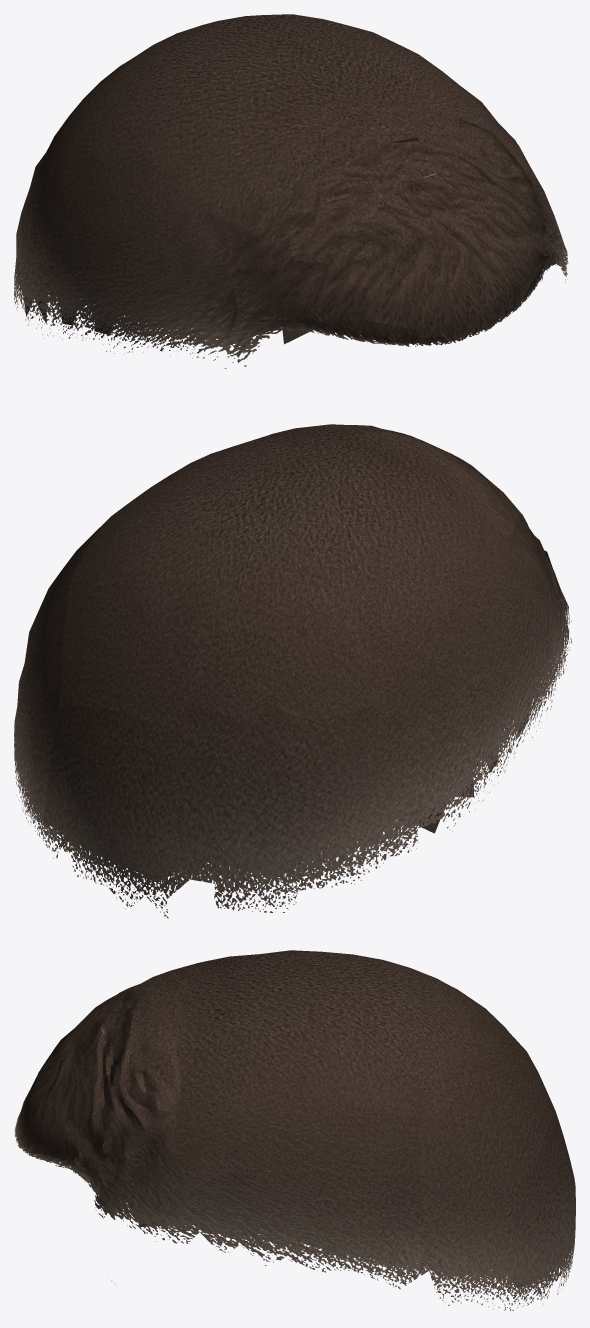
File: Hair_CrewCut.glb
The picture shows the model from 3 angles, top to bottom: view 1: azimuth 30°, elevation 25°; view 2: azimuth 150°, elevation 25°; view 3: azimuth 270°, elevation 25°; orthographic projection. The views are drawn at different scales.
Parts seen in each view (by area): view 1: HairMesh; view 2: HairMesh; view 3: HairMesh.
Boxes of the visible parts, x1,y1,x2,y2 form: HairMesh: [14, 14, 568, 368]; HairMesh: [14, 424, 571, 918]; HairMesh: [14, 950, 575, 1310].
Bounding box in the file's own units: 0.1552 × 0.1171 × 0.1932.
1 material, 1 textured.
